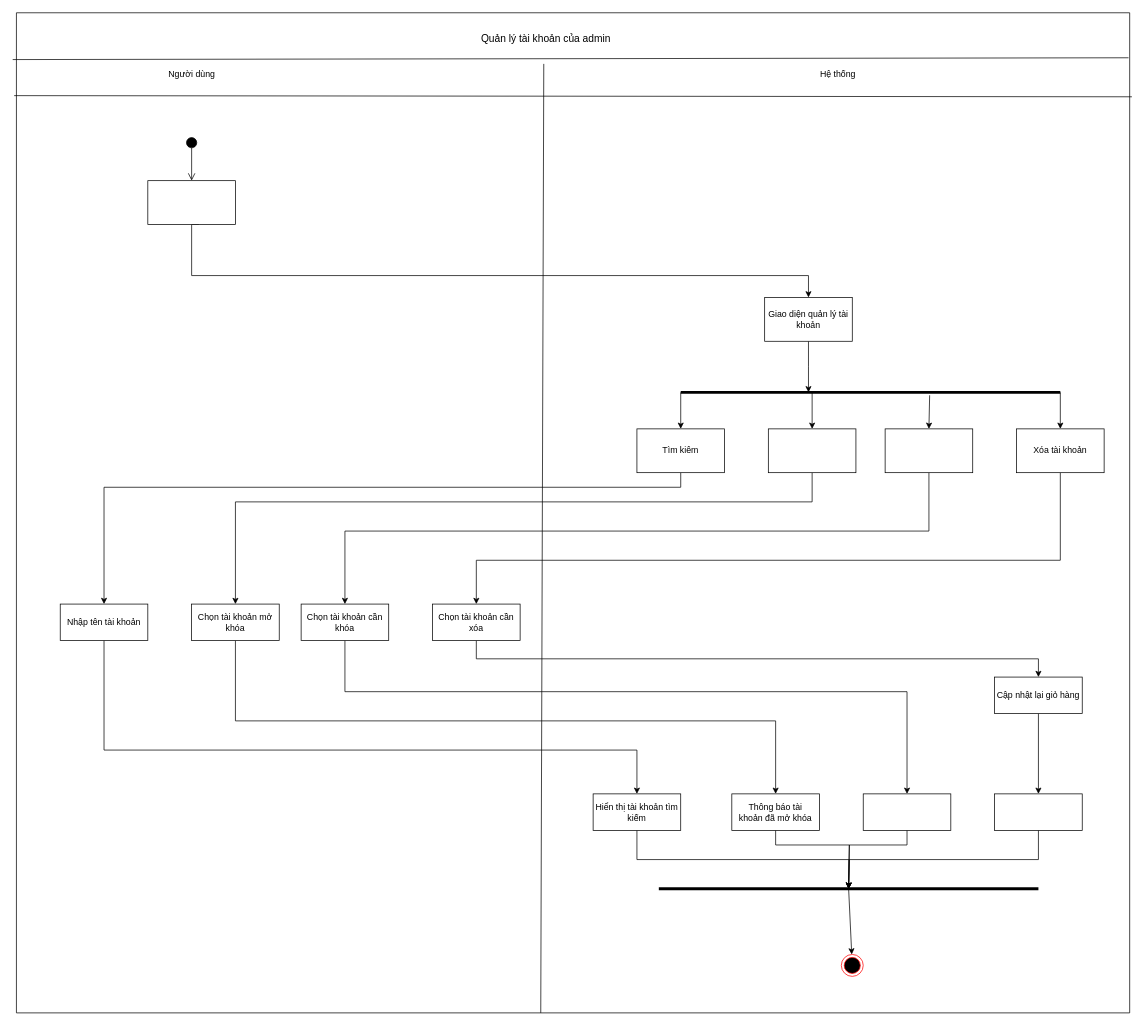
This 1146x1026 diagram has some shape labels left out. Each missing label, with the centre of its shape:
Chọn chức năng quản lý tài khảon: (191,202)
Khóa tài khoản: (928,450)
Mở khóa tài khoản: (812,450)
Thông báo tài khoản đã bị khóa: (906,811)
Thông báo tài khoản đã bị xóa: (1038,811)
